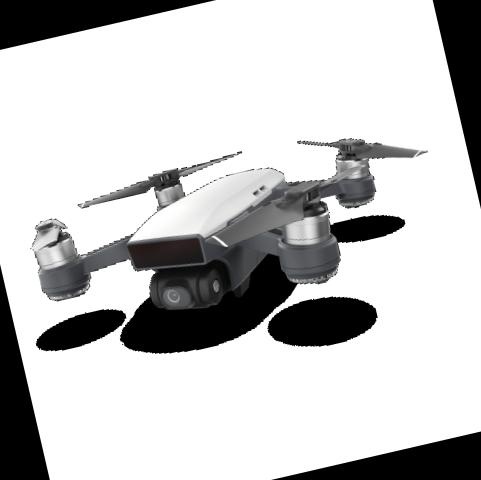drone: (10, 106, 454, 343)
